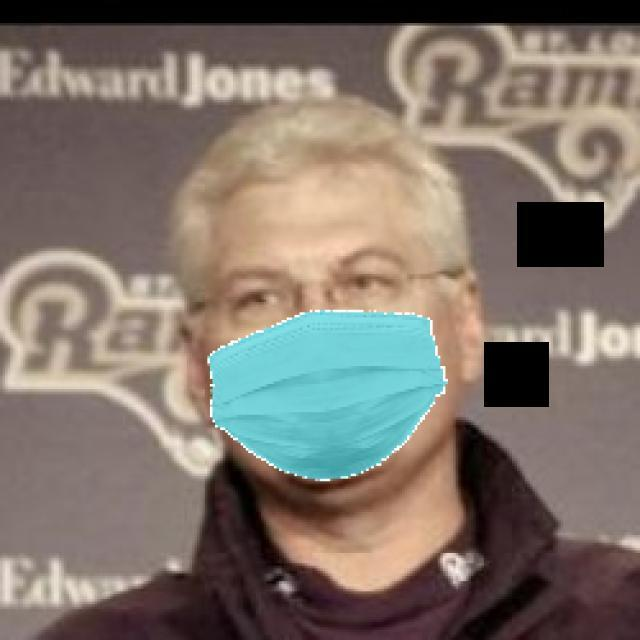surgical: (198, 193, 424, 491)
